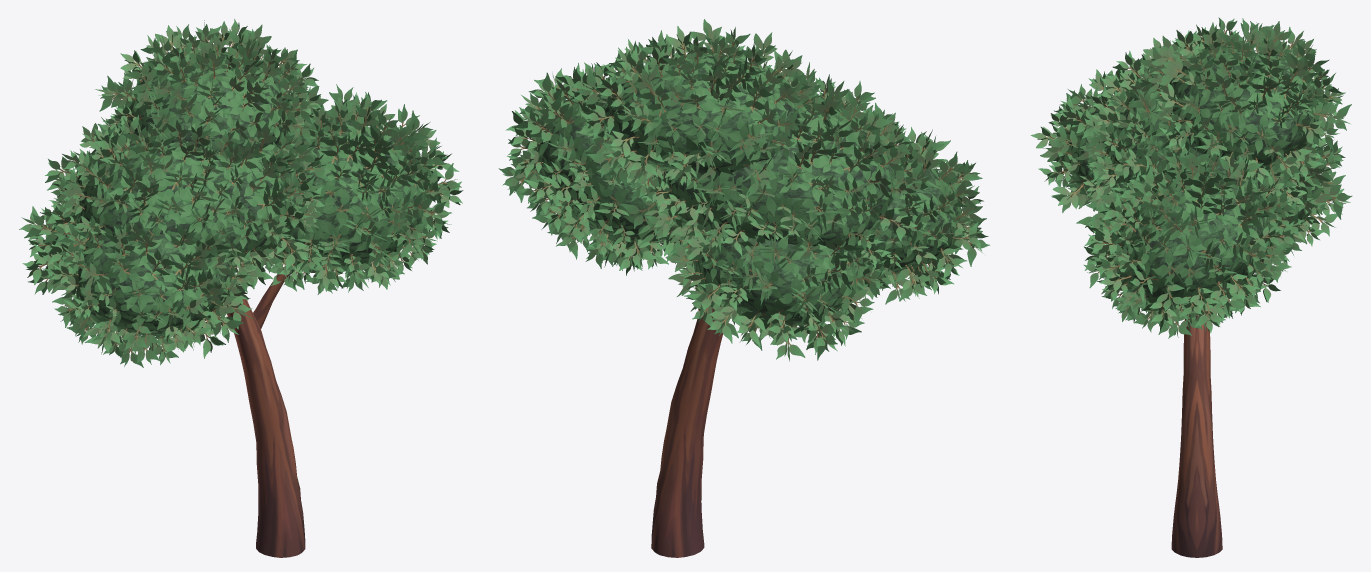
The model's file is Tree_03.fbx.
3 views of the same model, side by side, from view 1: azimuth 30°, elevation 25°; view 2: azimuth 150°, elevation 25°; view 3: azimuth 270°, elevation 25° (orthographic). The views are drawn at different scales.
Parts seen in each view (by area): view 1: leaves_03, Tree_03_leaf, Tree_03; view 2: leaves_03, Tree_03_leaf, Tree_03; view 3: leaves_03, Tree_03_leaf, Tree_03.
Part boxes in pixels (x1,y1,x2,y2): leaves_03: (19, 19, 463, 367); Tree_03_leaf: (52, 53, 430, 336); Tree_03: (227, 259, 305, 557); leaves_03: (498, 19, 989, 361); Tree_03_leaf: (536, 56, 959, 326); Tree_03: (651, 247, 722, 557); leaves_03: (1030, 17, 1352, 338); Tree_03_leaf: (1060, 46, 1318, 308); Tree_03: (1171, 311, 1222, 557).
Bounding box in the file's own units: 520 × 605 × 366.
